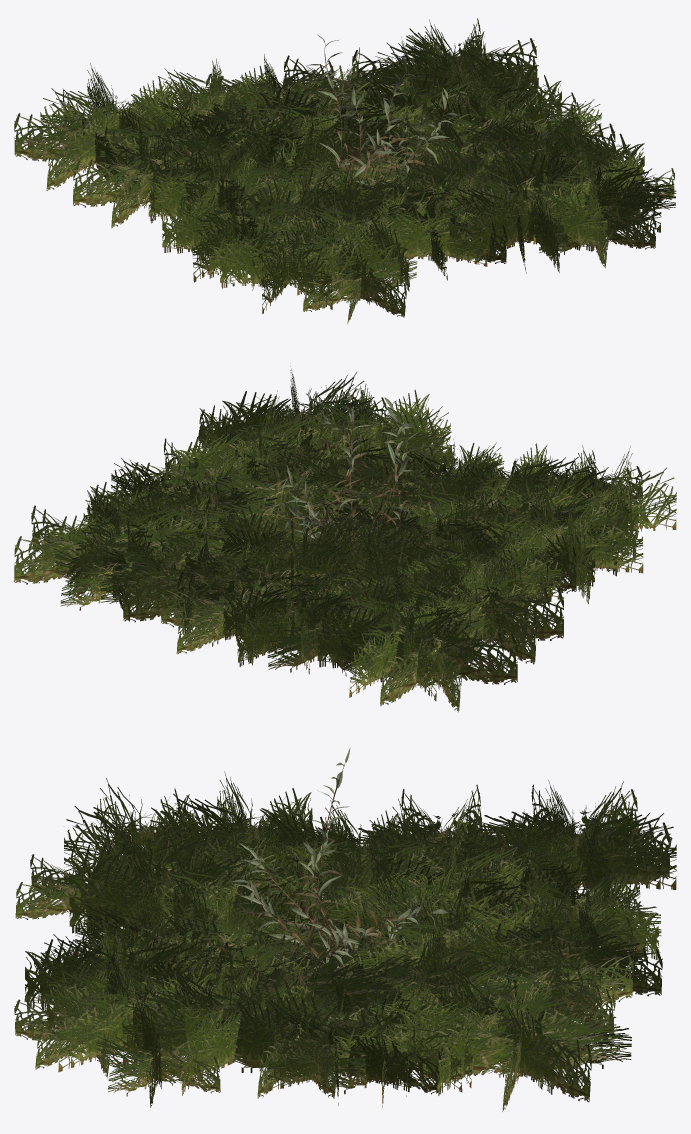
The model's file is groundcover.glb.
3 renders of one model, top to bottom at view 1: azimuth 30°, elevation 25°; view 2: azimuth 150°, elevation 25°; view 3: azimuth 270°, elevation 25°, orthographic. The views are drawn at different scales.
Parts seen in each view (by area): view 1: meadow-b-far, meadow-a-near, meadow-b-near, meadow-a-far, shrub-a-near, shrub-a-far, shrub-b-near, shrub-b-far; view 2: meadow-b-near, meadow-a-near, meadow-a-far, meadow-b-far, shrub-a-near, shrub-a-far, shrub-b-near, shrub-b-far; view 3: meadow-b-near, meadow-a-near, meadow-b-far, meadow-a-far, shrub-a-near, shrub-a-far, shrub-b-near, shrub-b-far.
Part boxes in pixels (x1,y1,x2,y2): meadow-b-far: (14, 19, 661, 324); meadow-a-near: (53, 24, 645, 313); meadow-b-near: (27, 24, 676, 316); meadow-a-far: (40, 18, 656, 280); shrub-a-near: (307, 34, 459, 182); shrub-a-far: (313, 36, 458, 189); shrub-b-near: (346, 60, 419, 186); shrub-b-far: (343, 60, 418, 185); meadow-b-near: (53, 372, 632, 706); meadow-a-near: (28, 396, 676, 695); meadow-a-far: (14, 390, 578, 700); meadow-b-far: (41, 368, 643, 712); shrub-a-near: (279, 392, 421, 540); shrub-a-far: (277, 394, 420, 539); shrub-b-near: (296, 416, 426, 543); shrub-b-far: (294, 416, 426, 539); meadow-b-near: (28, 777, 654, 1107); meadow-a-near: (27, 778, 660, 1107); meadow-b-far: (15, 771, 670, 1105); meadow-a-far: (14, 780, 676, 1111); shrub-a-near: (230, 748, 448, 969); shrub-a-far: (232, 753, 447, 968); shrub-b-near: (266, 839, 406, 977); shrub-b-far: (266, 841, 411, 977).
Bounding box in the file's own units: 3.18 × 1.1 × 3.2.
Materials: 5 (5 with a texture image).
